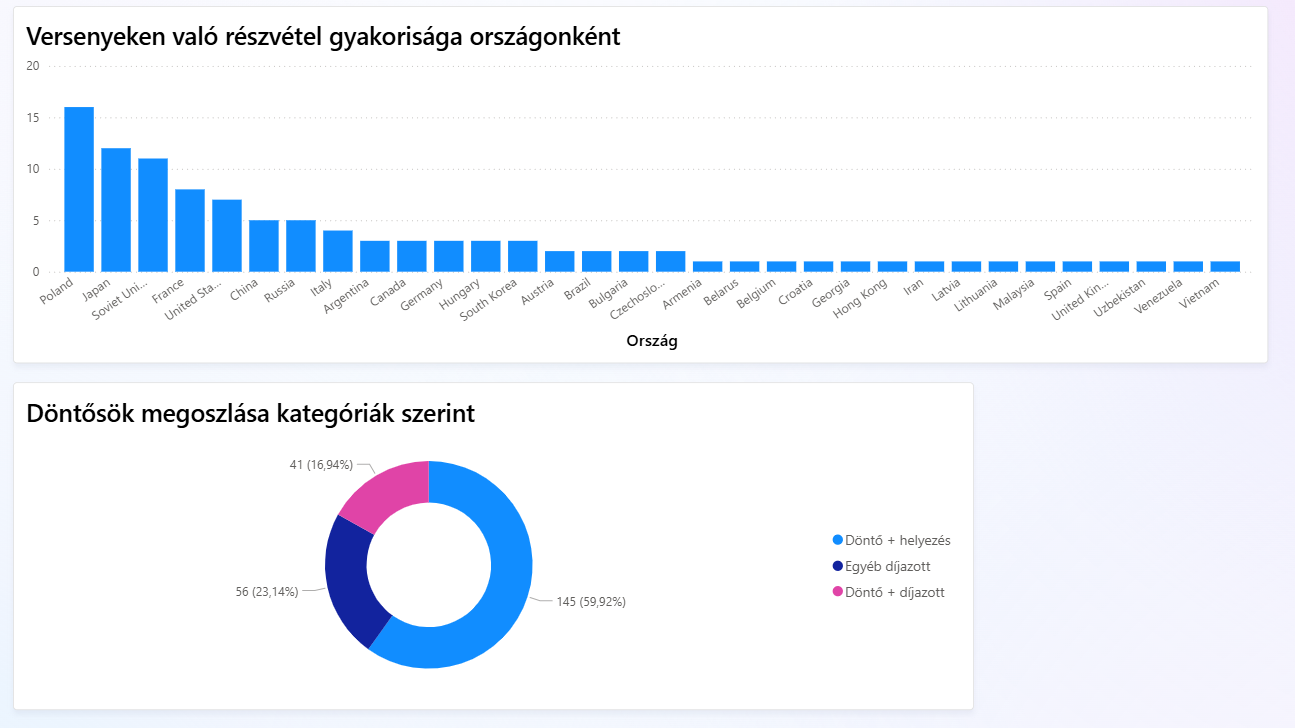

This screenshot's page, from the dashboard's own definition file:
{"tool":"powerbi","page":{"name":"Részvétel","canvas":[1280,720],"ordinal":1},"visuals":[{"type":"clusteredColumnChart","title":"Versenyeken való részvétel gyakorisága országonként","fields":{"Category":["Chopin versenyek.Ország"],"Y":["Count(Chopin versenyek.Év)"]},"box":[19.2,9.6,1228.1,349.9],"z":0},{"type":"donutChart","title":"Döntősök megoszlása kategóriák szerint","fields":{"Category":["Chopin versenyek.Kategória"],"Y":["CountNonNull(Chopin versenyek.Név)"]},"box":[19.2,377.4,940,321.1],"z":1}]}

Visuals, with their boxes in screenshot pixels (x1, y1, x2, y2), scaled from the page's 1280x720 canvas onto the 1295x728 screenshot:
"Versenyeken való részvétel gyakorisága országonként" clusteredColumnChart: box(19, 10, 1262, 363)
"Döntősök megoszlása kategóriák szerint" donutChart: box(19, 382, 970, 706)
